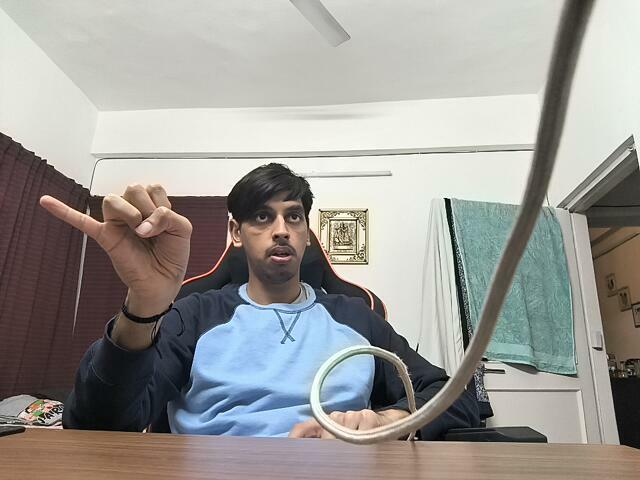RIGHT: (30, 178, 217, 321)
